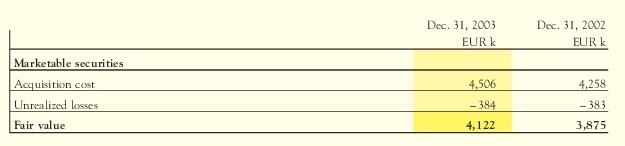table: (0, 0, 625, 146)
